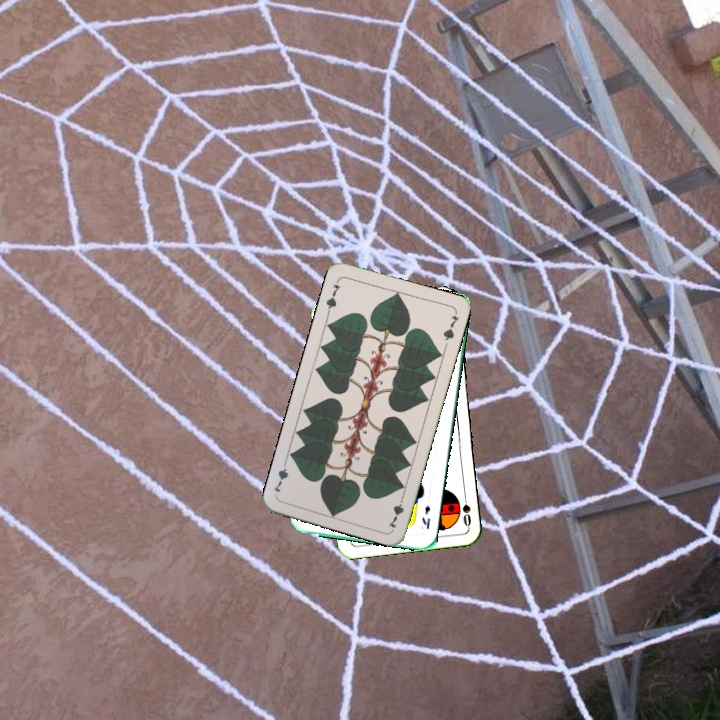EK: (418, 502, 433, 532)
G7: (385, 491, 407, 531), (322, 276, 343, 316)
SO: (458, 489, 474, 529)
